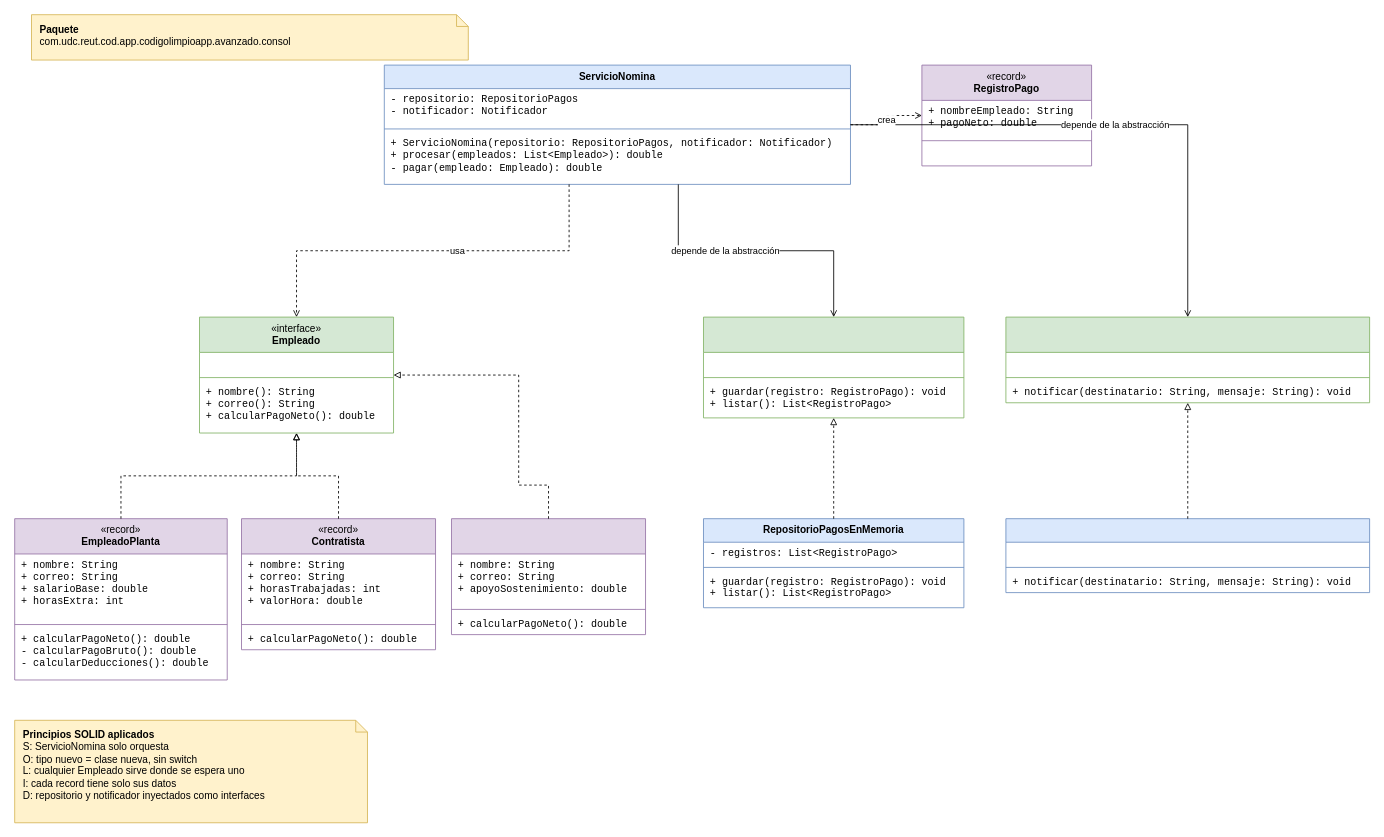
This 1384x837 diagram has some shape labels left out. Each missing label, with the box of its shape:
NotificadorConsola: (1005, 518, 1370, 593)
«interface» Notificador: (1005, 316, 1370, 403)
«interface» RepositorioPagos: (703, 316, 964, 418)
«record» Practicante: (451, 518, 646, 635)
